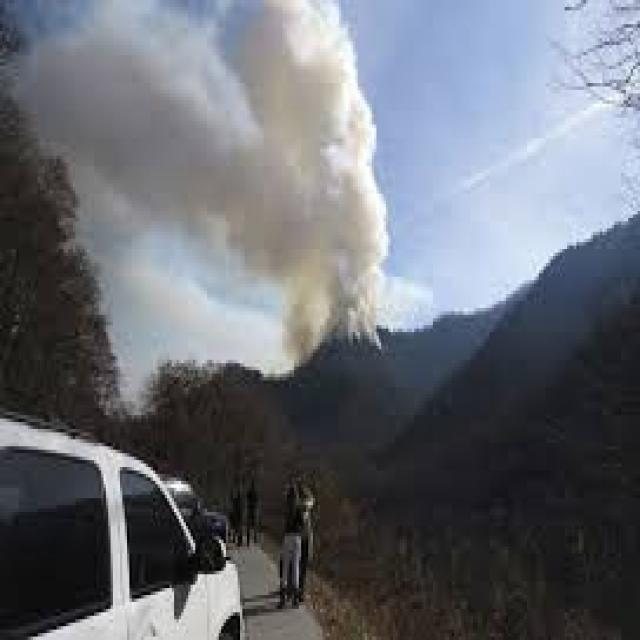Smoke: (62, 4, 382, 362)
